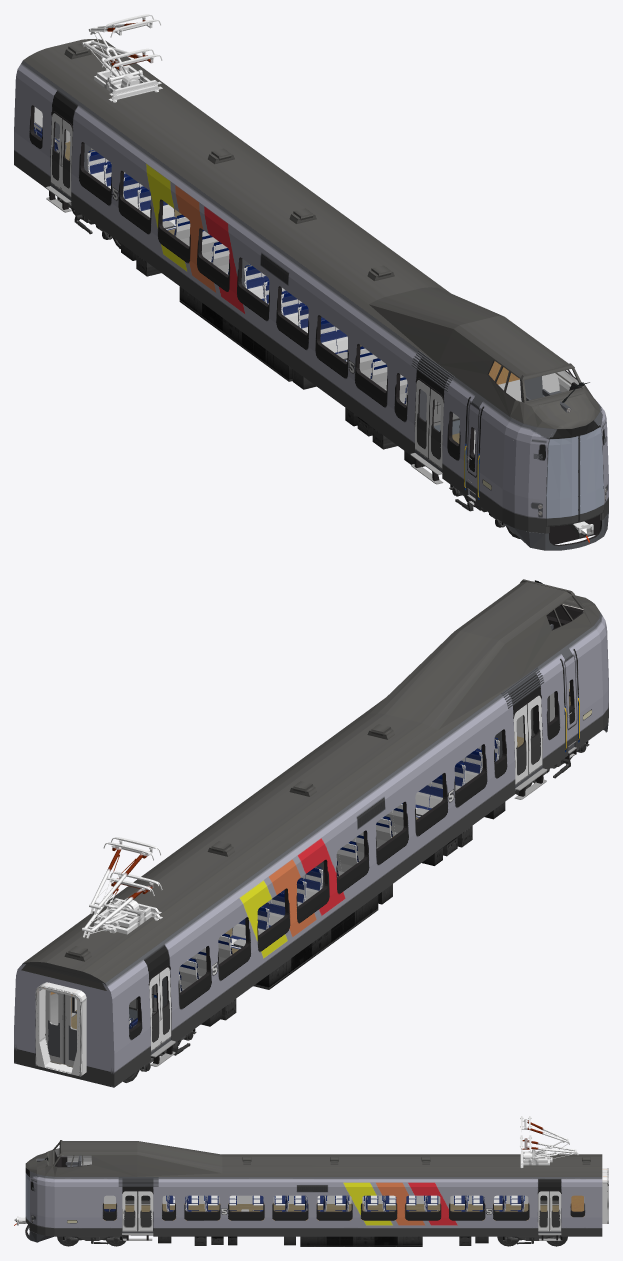
Rendered from mrwicmfront.obj.
3 renders of one model, top to bottom at view 1: azimuth 30°, elevation 25°; view 2: azimuth 150°, elevation 25°; view 3: azimuth 270°, elevation 25°, orthographic. The views are drawn at different scales.
Parts seen in each view (by area): view 1: side, jibung, chair_second, front, side_front, habu, jibungparts, m_panto6m, door_RF, door_RB, m_panto, frontparts (+5 smaller); view 2: side, jibung, chair_second, backout, habu, mak, m_panto6m, jibungparts, backdoor, m_panto, door_RF, door_RB (+4 smaller); view 3: side, jibung, chair_second, habu, badak, side_front, DT71, door_LB, inside, door_LF, m_panto6m, jibungparts (+7 smaller).
Part boxes in pixels (x1,y1,x2,y2): side: (14,61,571,522); jibung: (23,39,599,428); chair_second: (87,150,407,405); front: (546,419,603,533); side_front: (502,399,608,533); habu: (121,243,600,544); jibungparts: (64,43,454,391); m_panto6m: (88,14,161,96); door_RF: (61,119,443,468); door_RB: (50,113,430,458); m_panto: (81,40,162,102); frontparts: (503,382,608,550); side: (14,625,602,1087); jibung: (24,582,599,983); chair_second: (179,738,499,992); backout: (17,962,110,1086); habu: (201,789,515,1026); mak: (35,982,86,1076); m_panto6m: (89,837,161,927); jibungparts: (64,667,544,961); backdoor: (45,990,76,1066); m_panto: (82,871,162,938); door_RF: (159,695,542,1043); door_RB: (149,704,528,1051); side: (54,1154,602,1236); jibung: (25,1141,602,1176); chair_second: (166,1195,524,1211); habu: (131,1235,488,1246); badak: (104,1204,558,1211); side_front: (30,1171,54,1236); DT71: (57,1235,567,1246); door_LB: (137,1191,561,1231); inside: (67,1161,528,1203); door_LF: (122,1191,549,1231); m_panto6m: (520,1116,569,1165); jibungparts: (118,1156,590,1186).
Size of the model in its own units: 3.17 by 5.74 by 26.18.
